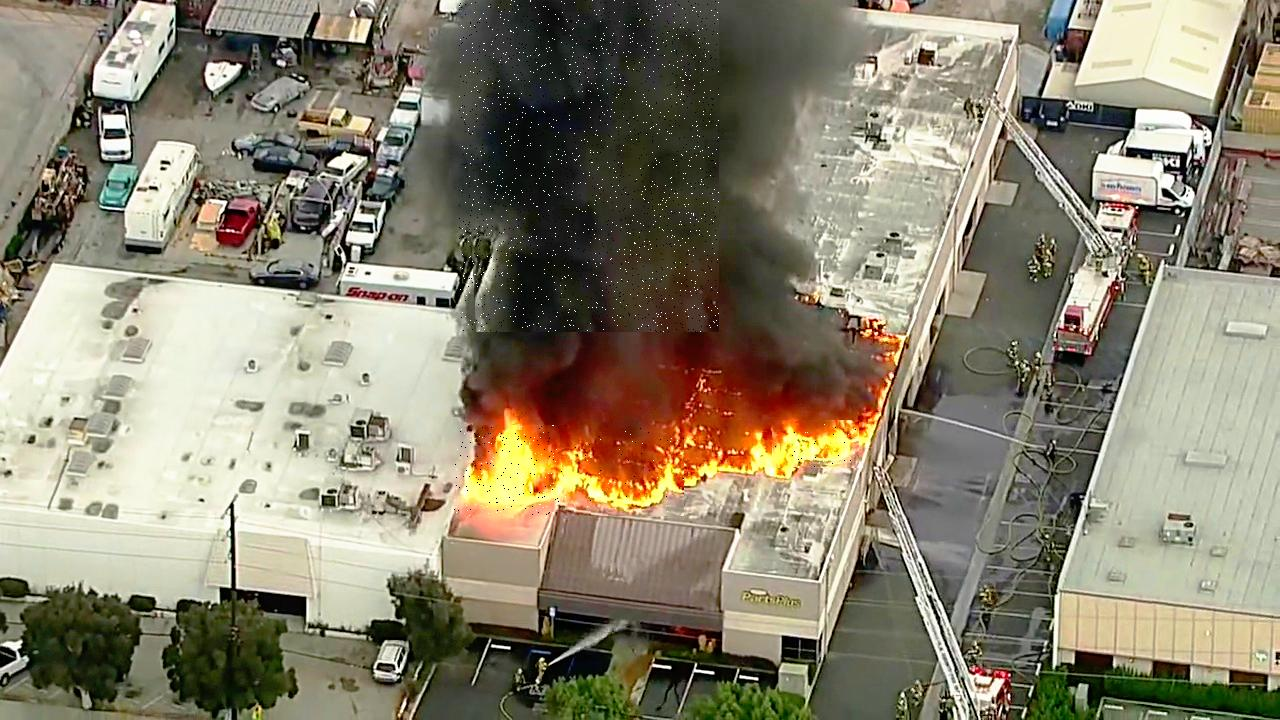fire: (559, 427, 684, 516), (454, 425, 570, 516), (773, 420, 862, 468)
smoke: (459, 0, 719, 332)
